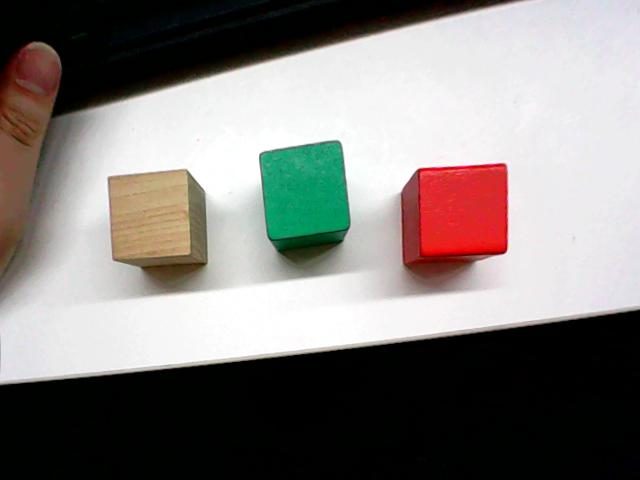green_box: (255, 136, 353, 254)
raw_box: (104, 166, 215, 278)
red_box: (397, 158, 512, 268)
